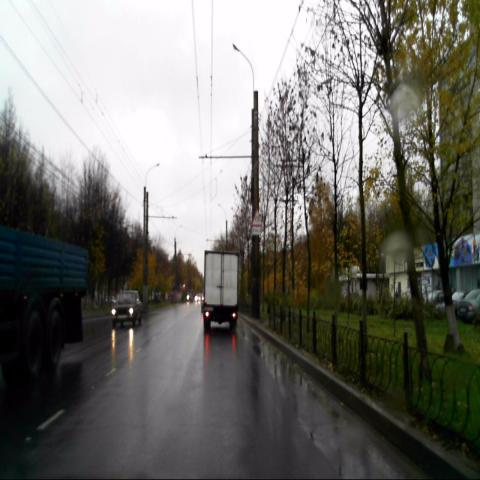1_23: (252, 207, 263, 227)
